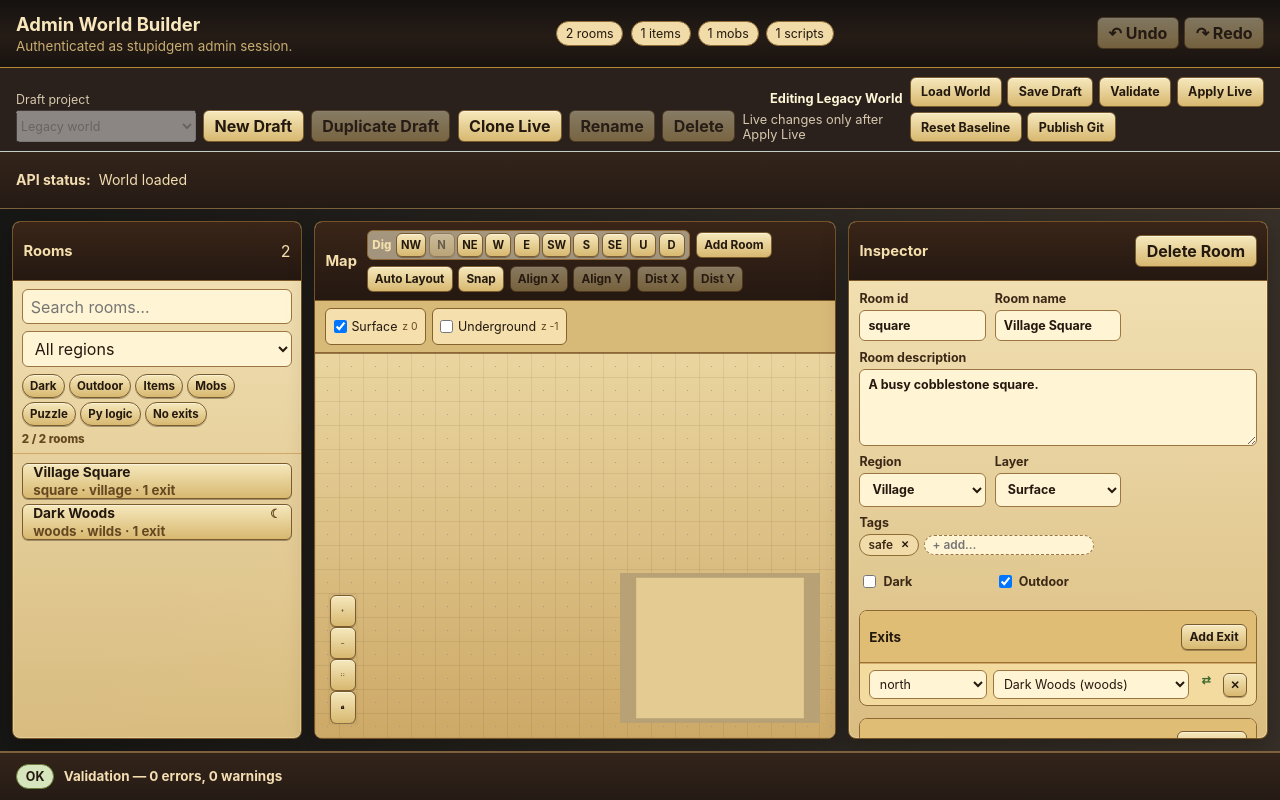
Test case: undo and redo revert and reapply room edits
This screenshot has width=1280, height=800.
Expected: the search field labelled "Search rooms" is shown, [22,289,292,324]
Replace the text in the field labelled "Room name" with "Grand Plaza" at (1058, 326), box [995,310,1121,341]
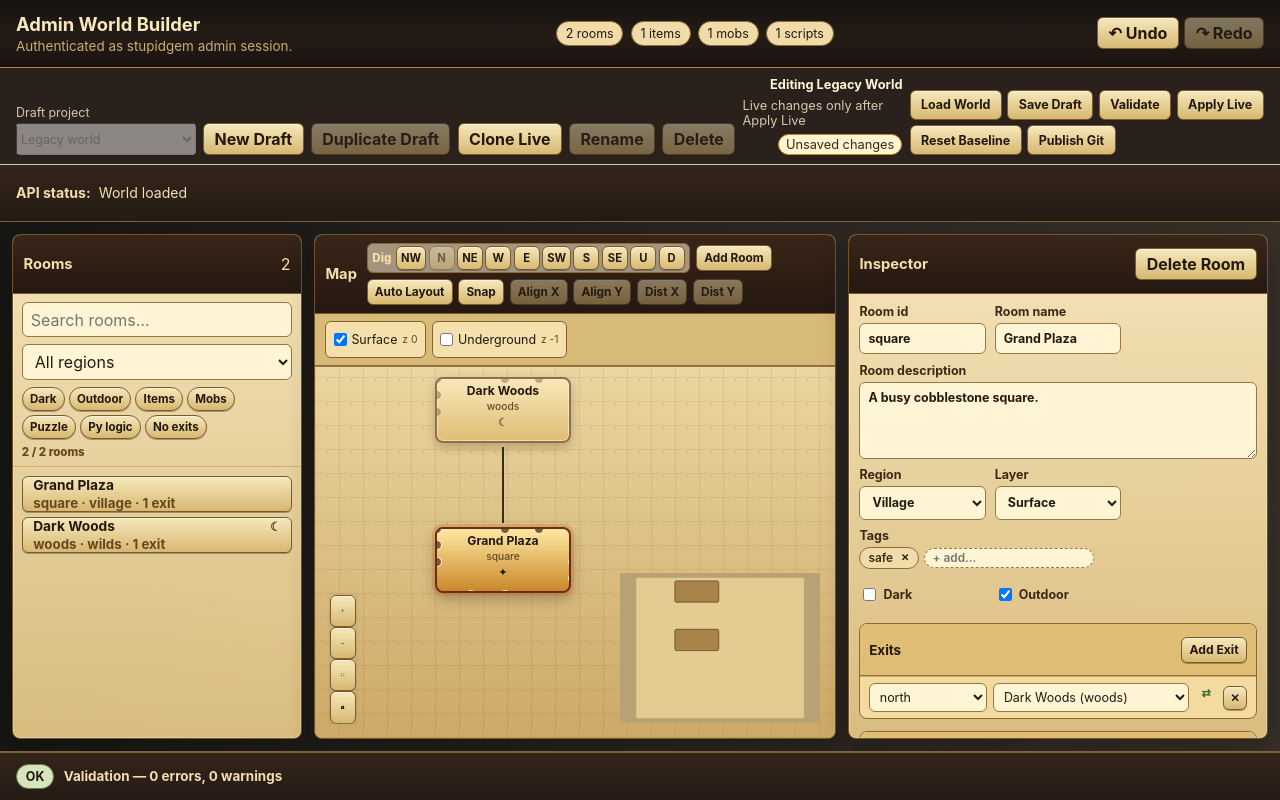
Click the button "↶ Undo" at (1138, 33), box [1097,17,1179,49]
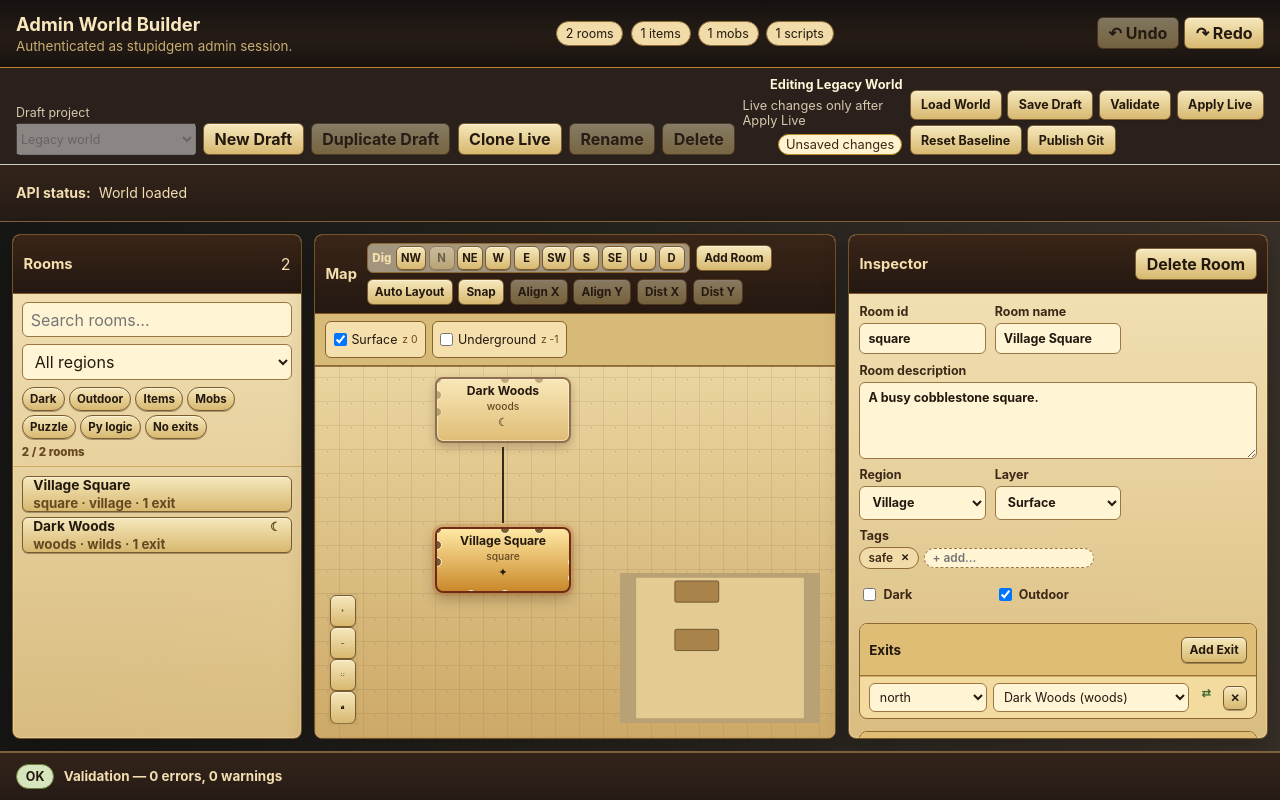
Now the field labelled "Room name" holds "Village Square", box [995,323,1121,354]
Click the button "↷ Redo" at (1224, 33), box [1184,17,1264,49]
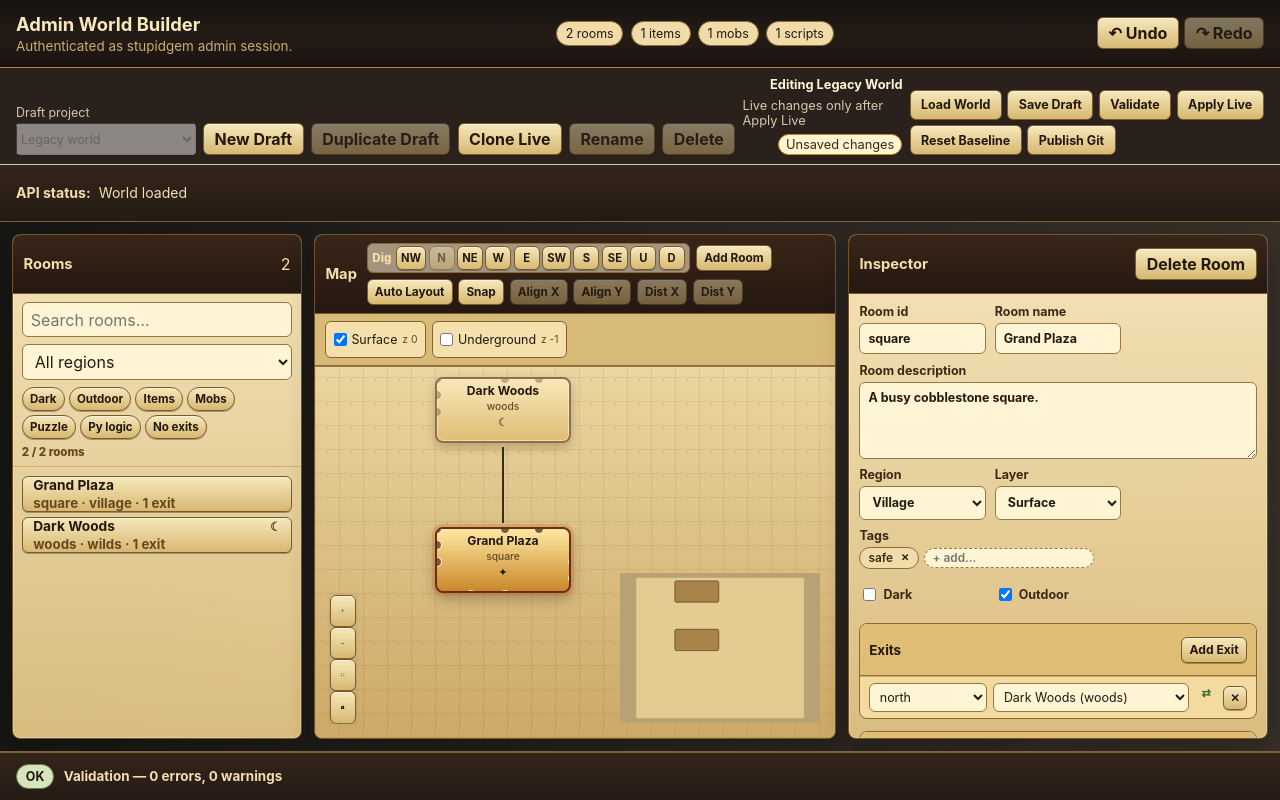
Press z
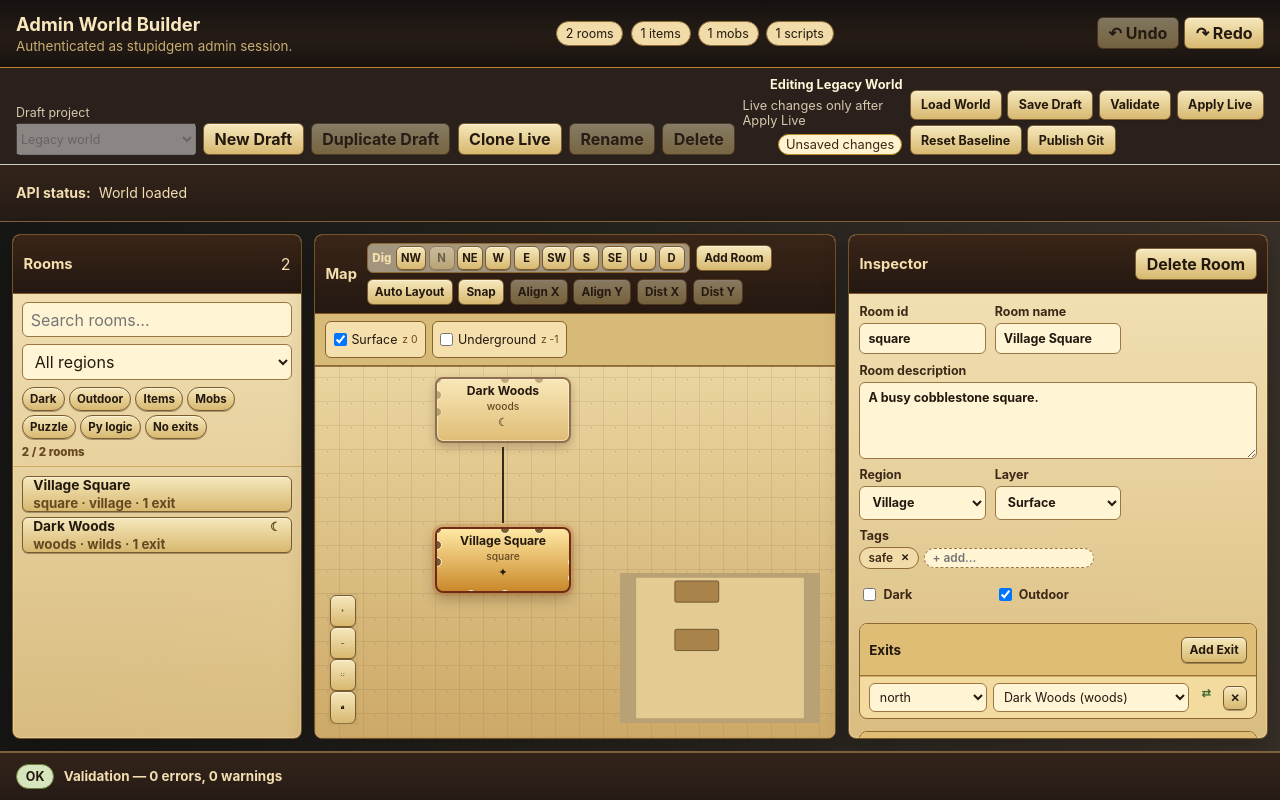
Now the field labelled "Room name" holds "Village Square", box [995,323,1121,354]
